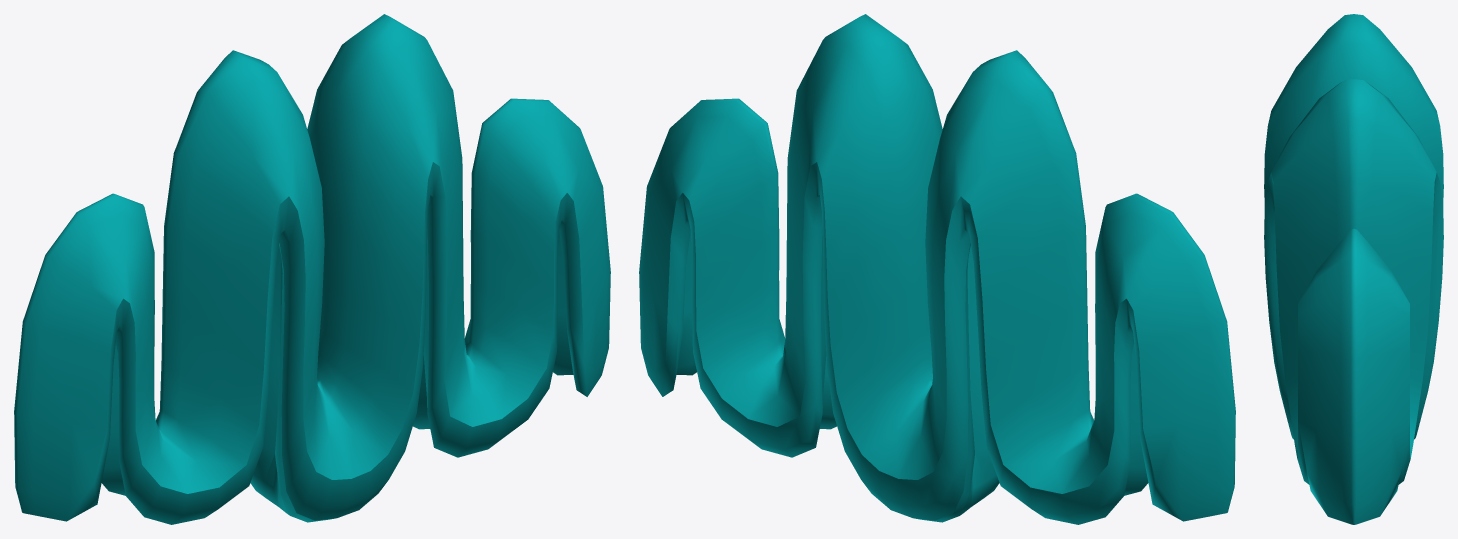
The model's file is Bush_1-transformed.glb.
3 views of the same model, side by side, from view 1: azimuth 30°, elevation 25°; view 2: azimuth 150°, elevation 25°; view 3: azimuth 270°, elevation 25° (orthographic). The views are drawn at different scales.
Parts seen in each view (by area): view 1: Bush_1; view 2: Bush_1; view 3: Bush_1.
Boxes of the visible parts, <box> form: Bush_1: <box>14,14,610,524</box>; Bush_1: <box>639,14,1235,524</box>; Bush_1: <box>1264,14,1443,524</box>.
Size of the model in its own units: 3.26 by 2.48 by 0.9792.
Materials: 1 (1 with a texture image).
